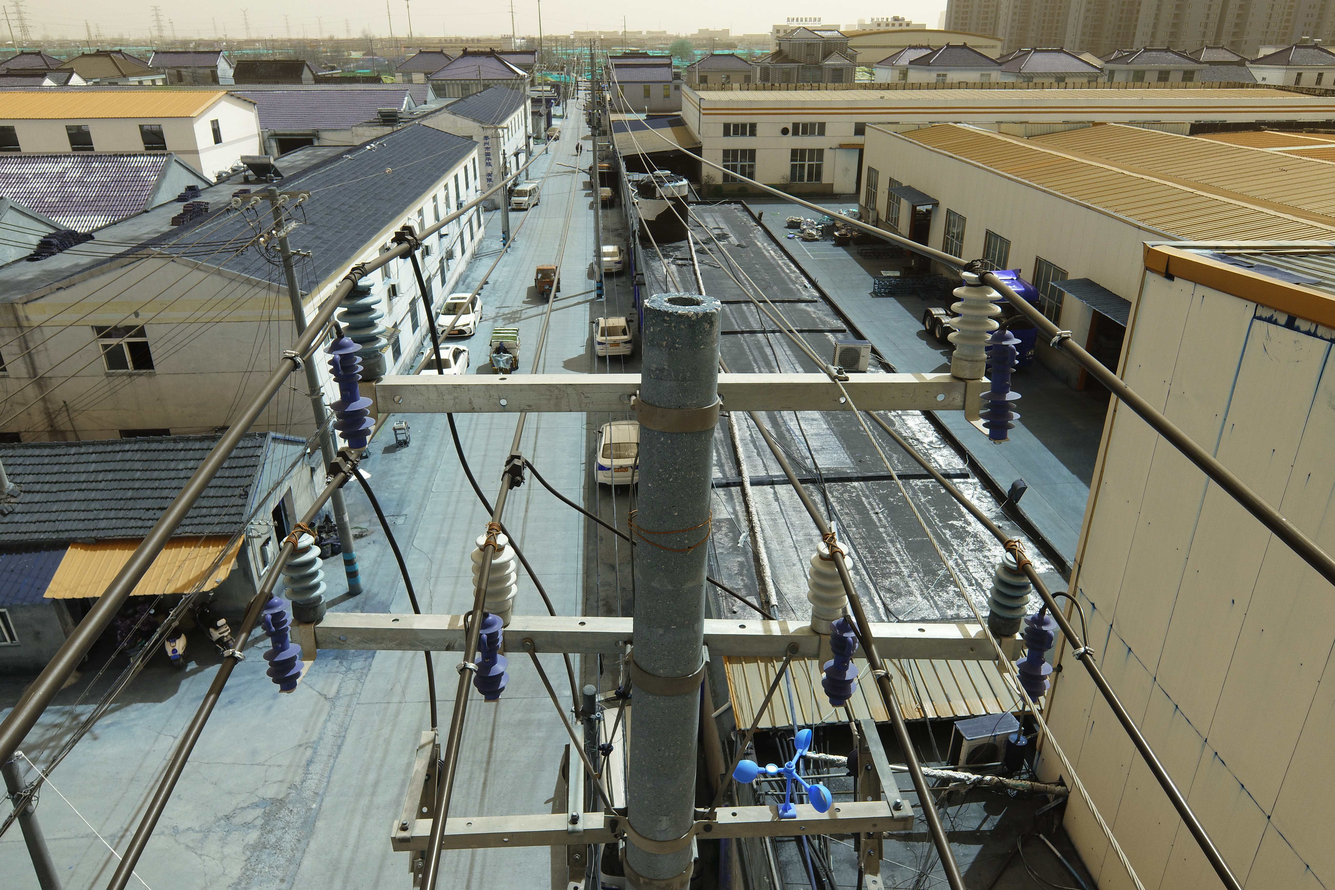severe_soiling_no_discharge_whole: (333, 273, 390, 379), (984, 547, 1033, 631)
